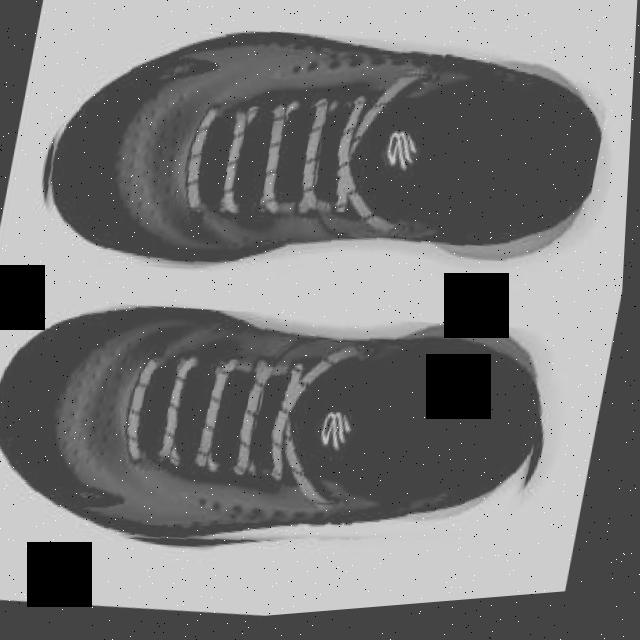shoe: (25, 0, 622, 338), (0, 264, 570, 612)
